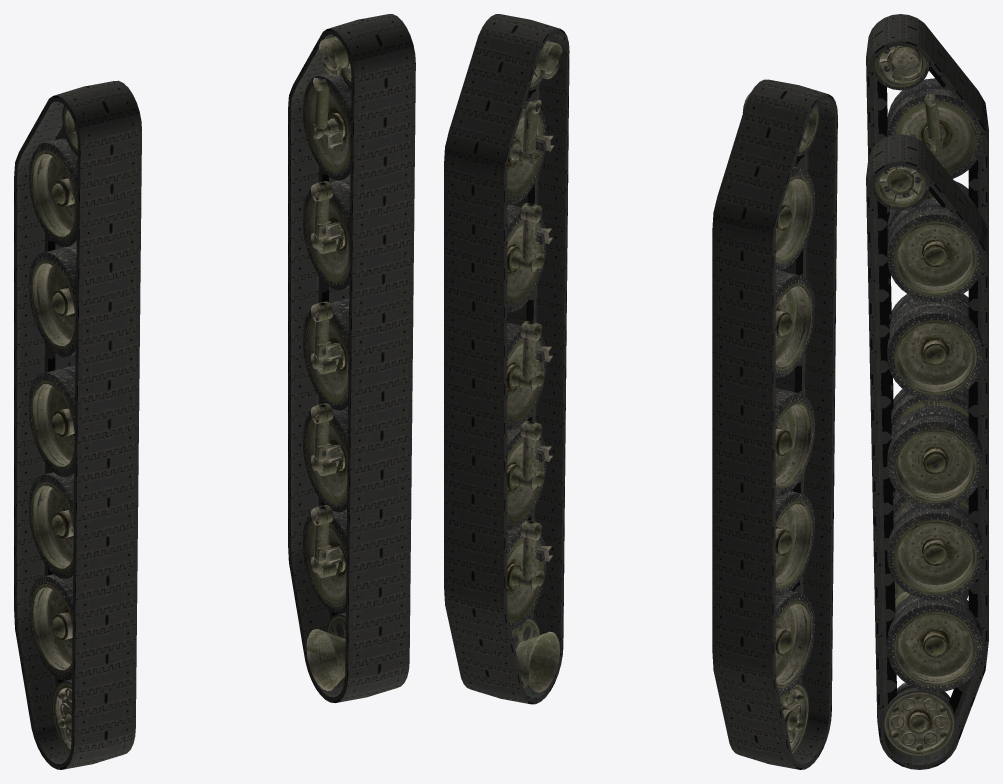
The model's file is Chassis.glb.
The picture shows the model from 3 angles, left to right: view 1: azimuth 30°, elevation 25°; view 2: azimuth 150°, elevation 25°; view 3: azimuth 270°, elevation 25°; orthographic projection. The views are drawn at different scales.
Parts seen in each view (by area): view 1: set_1_group_0, set_0_group_0, set_3_group_0, set_2_group_0; view 2: set_1_group_0, set_0_group_0, set_3_group_0, set_2_group_0; view 3: set_3_group_0, set_0_group_0, set_2_group_0, set_1_group_0.
Part boxes in pixels (x1,y1,x2,y2): set_1_group_0: (14,80,141,769); set_0_group_0: (288,14,415,702); set_3_group_0: (303,36,351,690); set_2_group_0: (29,105,77,753); set_1_group_0: (712,79,837,769); set_0_group_0: (444,14,569,704); set_3_group_0: (507,38,562,692); set_2_group_0: (742,92,819,753); set_3_group_0: (873,166,981,755); set_0_group_0: (866,134,988,769); set_2_group_0: (873,45,981,607); set_1_group_0: (866,14,988,599).
Size of the model in its own units: 3 by 5.81 by 1.06.
Materials: 4 (4 with a texture image).
